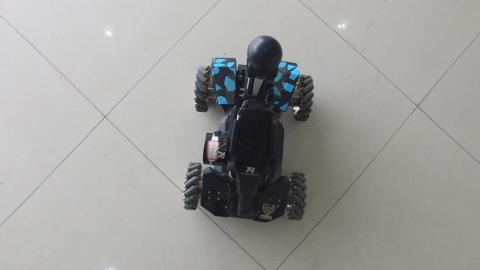chariot: (187, 32, 310, 219)
